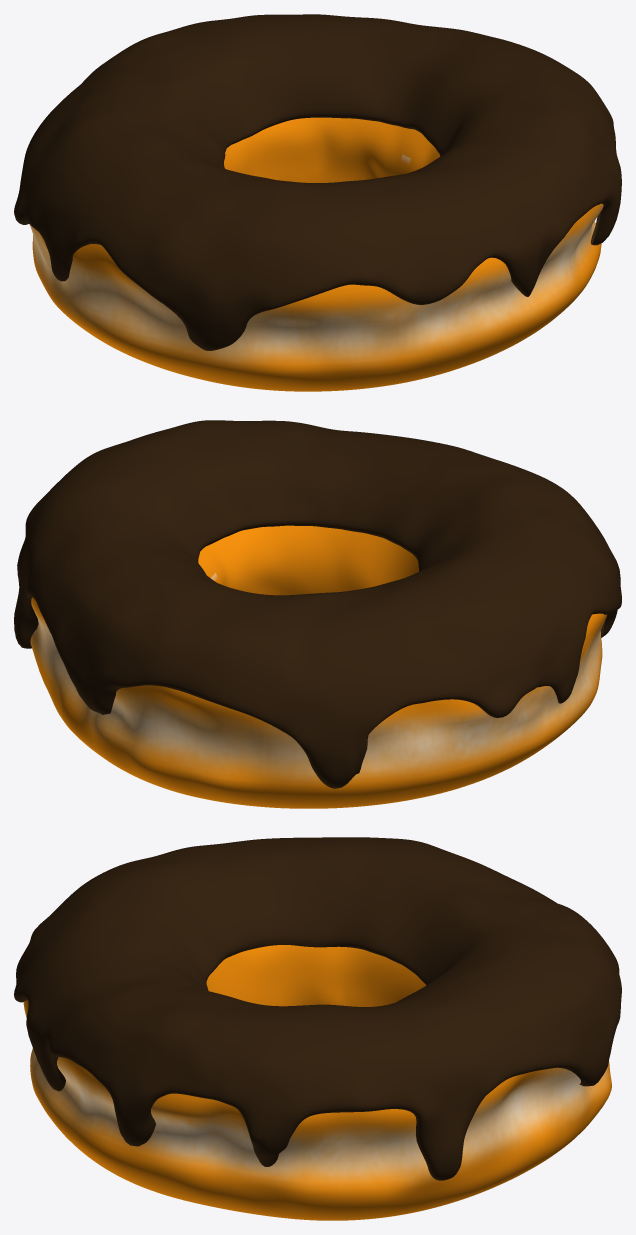
File: Donut_Unity.gltf
3 renders of one model, top to bottom at view 1: azimuth 30°, elevation 25°; view 2: azimuth 150°, elevation 25°; view 3: azimuth 270°, elevation 25°, orthographic. The views are drawn at different scales.
Parts seen in each view (by area): view 1: Icing, Donut; view 2: Icing, Donut; view 3: Icing, Donut.
Part boxes in pixels (x1,y1,x2,y2): Icing: (14, 14, 621, 350); Donut: (29, 117, 603, 391); Icing: (14, 420, 621, 788); Donut: (30, 525, 606, 808); Icing: (14, 837, 621, 1180); Donut: (23, 945, 611, 1220).
Size of the model in its own units: 0.1458 by 0.0526 by 0.1424.
2 materials, 1 textured.
